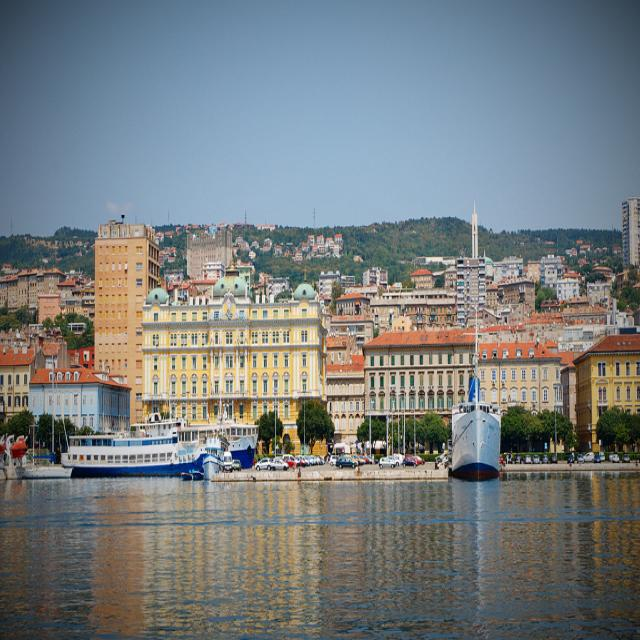Boat: (57, 426, 260, 478), (15, 354, 74, 479), (454, 390, 501, 480), (198, 442, 222, 481)
